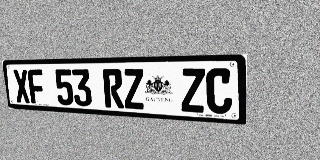3: (72, 69, 92, 107)
5: (54, 69, 74, 106)
C: (206, 68, 232, 114)
F: (27, 69, 46, 104)
R: (102, 69, 124, 108)
X: (12, 70, 31, 103)
Z: (180, 68, 205, 113), (122, 69, 145, 110)
